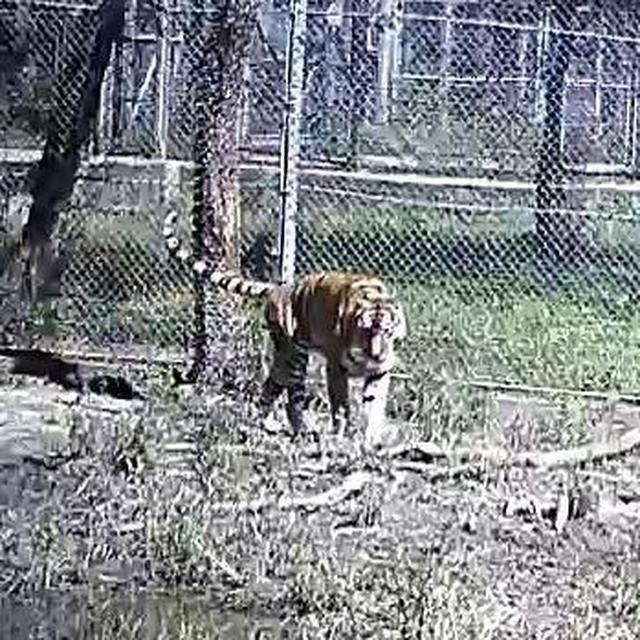tiger: (161, 210, 408, 446)
